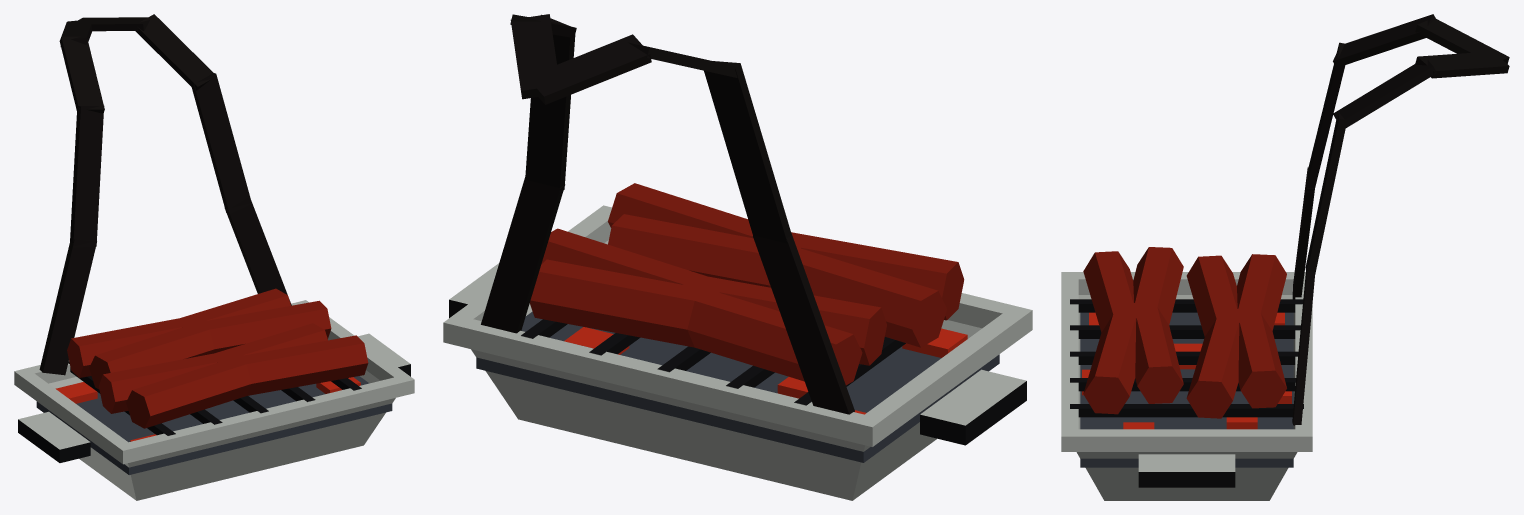
File: barbecue.glb
3 views of the same model, side by side, from view 1: azimuth 30°, elevation 25°; view 2: azimuth 150°, elevation 25°; view 3: azimuth 270°, elevation 25° (orthographic). The views are drawn at different scales.
Parts seen in each view (by area): view 1: barbecue; view 2: barbecue; view 3: barbecue.
Part boxes in pixels (left/top/right/bottom): barbecue: left=14, top=14, right=414, bottom=500; barbecue: left=443, top=14, right=1032, bottom=500; barbecue: left=1061, top=14, right=1509, bottom=500.
Size of the model in its own units: 0.68 by 0.6358 by 0.651.
Materials: 1 (1 with a texture image).
